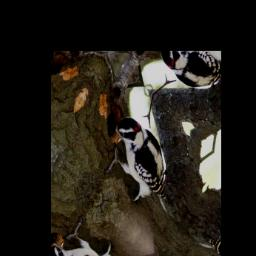Woodpecker: (93, 106, 188, 224)
